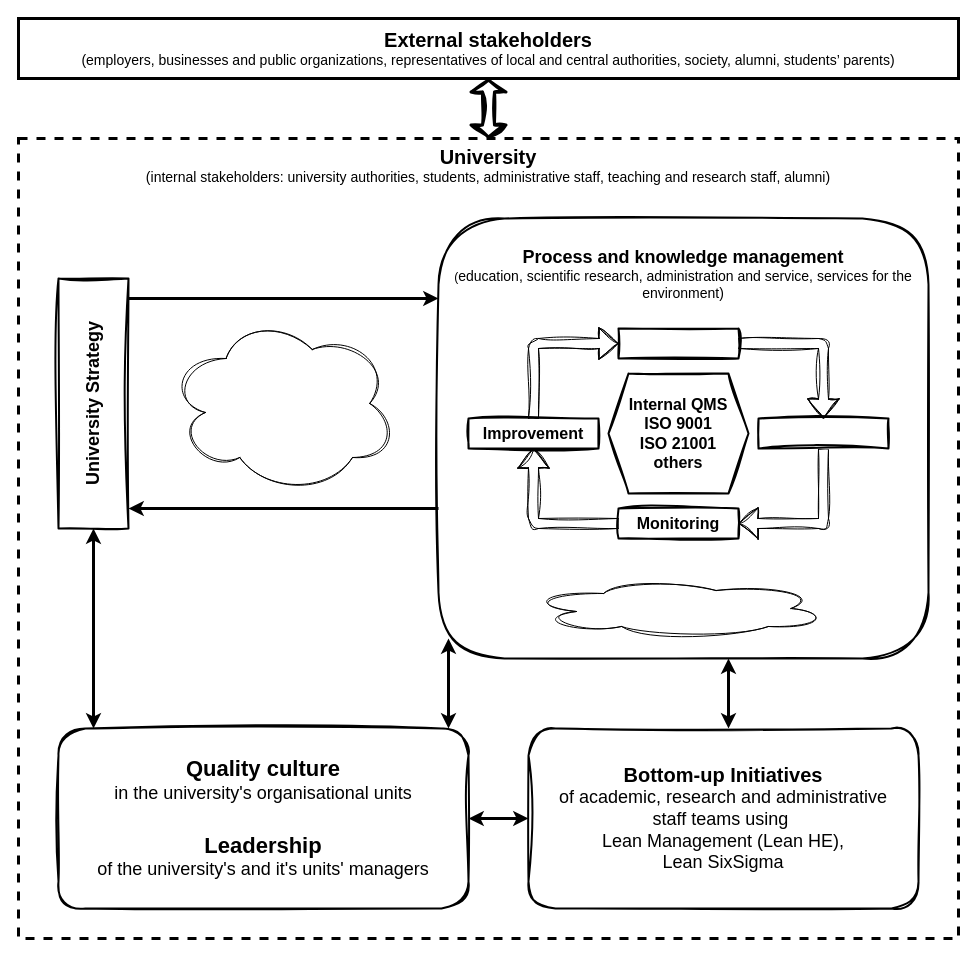
This 977x957 diagram has some shape labels left out. Each missing label, with the centre of its shape:
"Design" goes at (x=678, y=343).
"Implementation" goes at (x=823, y=433).
"IT support" goes at (x=678, y=608).
"Self-assessment (e.g., CAF, EFQM) readiness for change" goes at (x=283, y=403).
